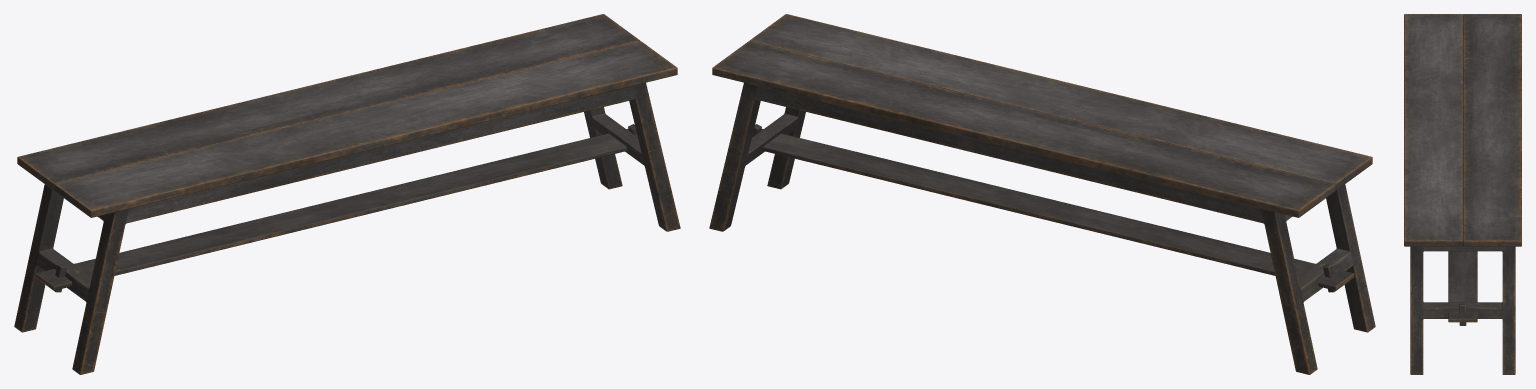
The picture shows the model from 3 angles, left to right: view 1: azimuth 30°, elevation 25°; view 2: azimuth 150°, elevation 25°; view 3: azimuth 270°, elevation 25°; orthographic projection. The views are drawn at different scales.
Visible parts, largest first — view 1: wooden_bench; view 2: wooden_bench; view 3: wooden_bench.
Boxes of the visible parts, x1,y1,x2,y2 form: wooden_bench: [14, 14, 680, 374]; wooden_bench: [709, 14, 1375, 374]; wooden_bench: [1404, 14, 1521, 374].
Bounding box in the file's own units: 1.7 × 0.4442 × 0.3602.
1 material, 1 textured.
